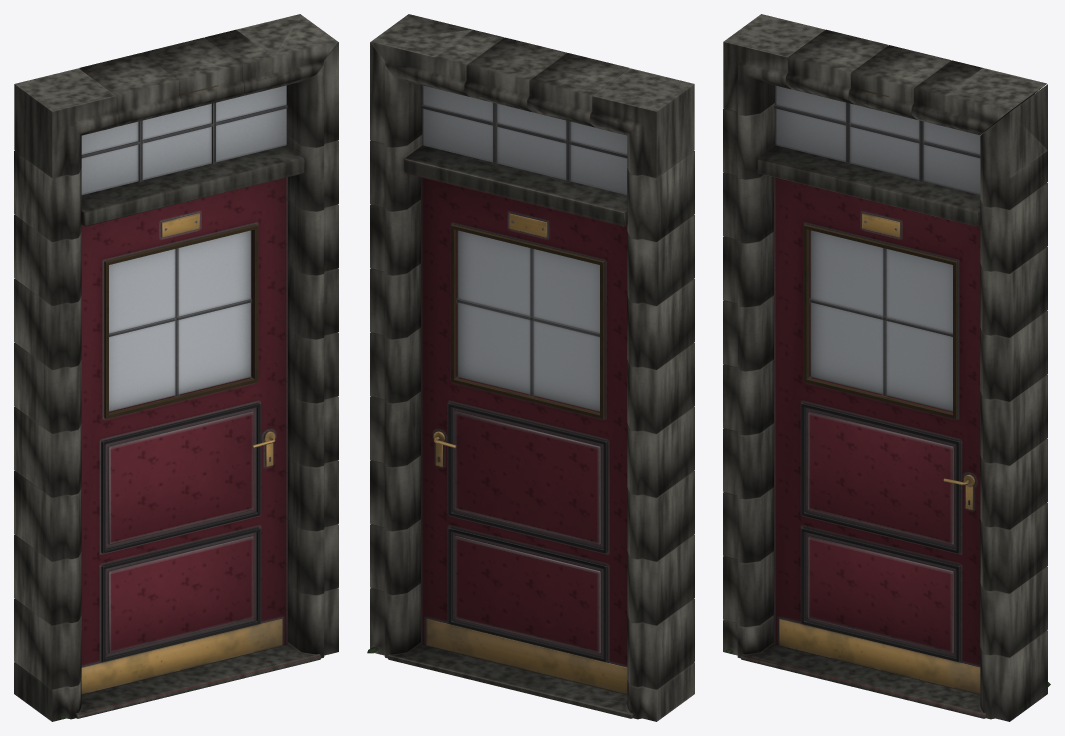
File: ClassroomDoor.fbx
3 views of the same model, side by side, from view 1: azimuth 30°, elevation 25°; view 2: azimuth 150°, elevation 25°; view 3: azimuth 330°, elevation 25° (orthographic).
Parts seen in each view (by area): view 1: ClassroomDoor_Main, ClassroomDoor_Leaf0, ClassroomDoor_Leaf0Glass, ClassroomDoor_Glass; view 2: ClassroomDoor_Main, ClassroomDoor_Leaf0, ClassroomDoor_Leaf0Glass, ClassroomDoor_Glass; view 3: ClassroomDoor_Main, ClassroomDoor_Leaf0, ClassroomDoor_Leaf0Glass, ClassroomDoor_Glass.
Boxes of the visible parts, x1,y1,x2,y2 form: ClassroomDoor_Main: (14,14,338,721); ClassroomDoor_Leaf0: (81,177,287,694); ClassroomDoor_Leaf0Glass: (109,230,251,411); ClassroomDoor_Glass: (81,85,286,194); ClassroomDoor_Main: (367,14,694,721); ClassroomDoor_Leaf0: (421,177,627,694); ClassroomDoor_Leaf0Glass: (457,230,599,411); ClassroomDoor_Glass: (422,85,627,194); ClassroomDoor_Main: (723,14,1050,721); ClassroomDoor_Leaf0: (773,177,980,694); ClassroomDoor_Leaf0Glass: (810,230,952,411); ClassroomDoor_Glass: (775,85,985,194).
Bounding box in the file's own units: 469 × 955 × 138.
